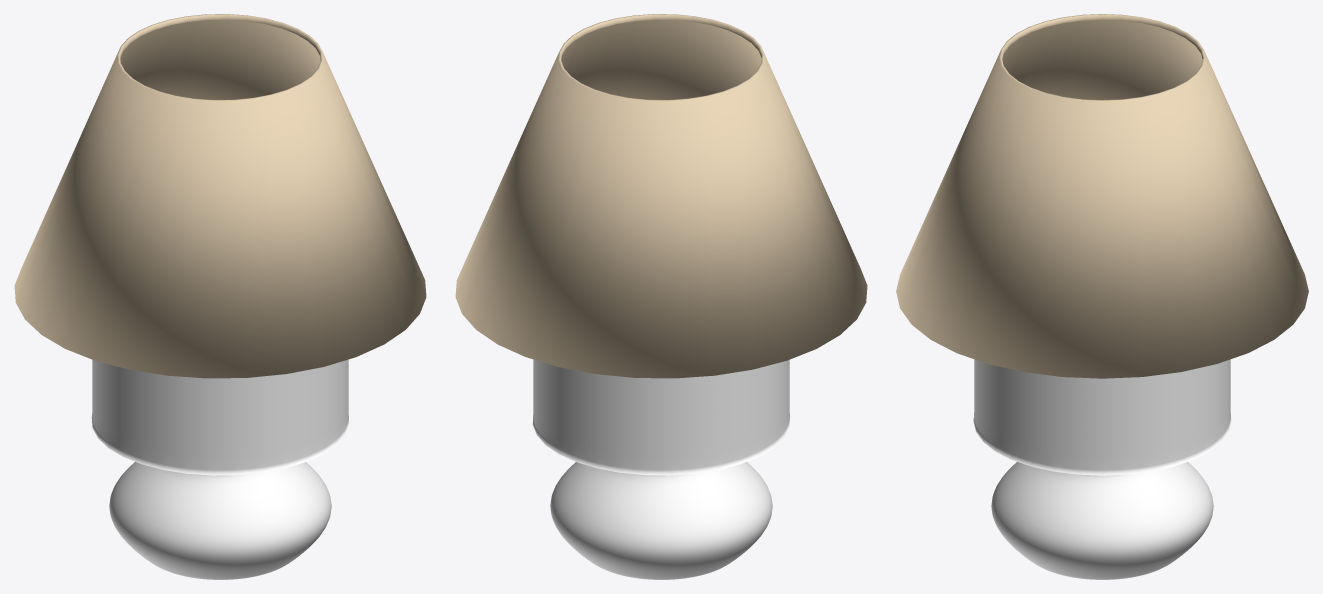
The model's file is Lamp1.fbx.
3 renders of one model, left to right at view 1: azimuth 30°, elevation 25°; view 2: azimuth 150°, elevation 25°; view 3: azimuth 270°, elevation 25°, orthographic.
Parts seen in each view (by area): view 1: Lampshade, Lamp_base; view 2: Lampshade, Lamp_base; view 3: Lampshade, Lamp_base.
Part boxes in pixels (box(x1,y1,x2,y2)): Lampshade: box(14, 14, 426, 378); Lamp_base: box(91, 359, 349, 579); Lampshade: box(455, 14, 867, 378); Lamp_base: box(532, 359, 790, 579); Lampshade: box(896, 14, 1308, 378); Lamp_base: box(973, 359, 1231, 579).
Size of the model in its own units: 404 by 530 by 404.
